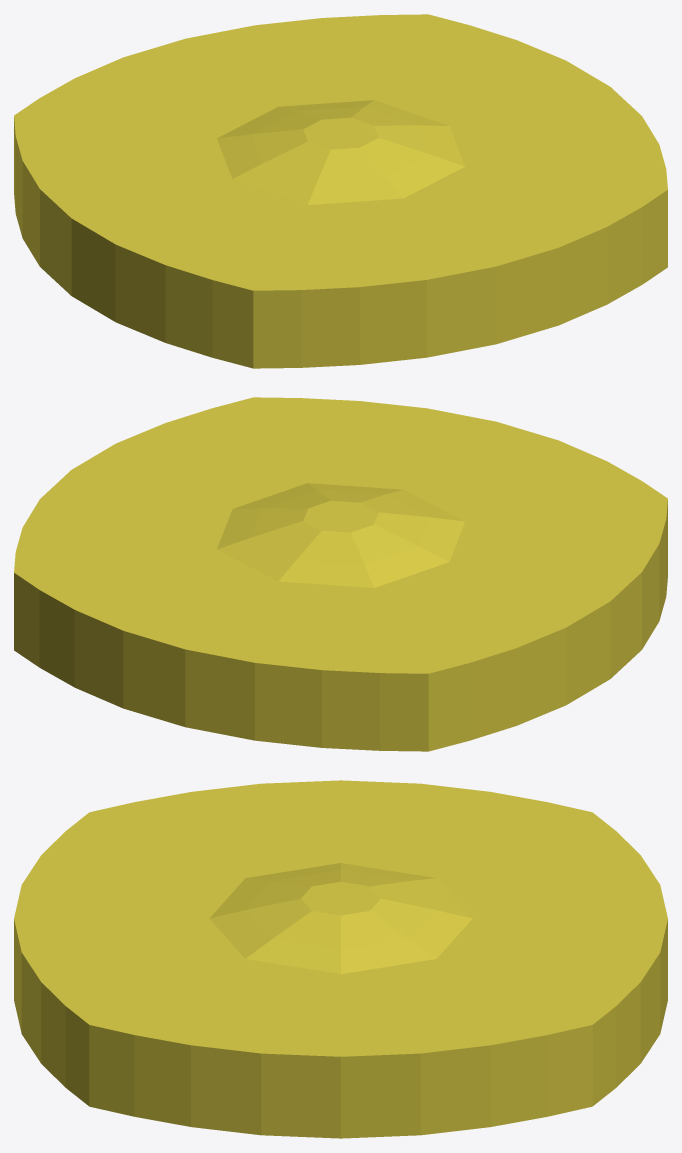
The model's file is 1Gold.fbx.
3 renders of one model, top to bottom at view 1: azimuth 30°, elevation 25°; view 2: azimuth 150°, elevation 25°; view 3: azimuth 270°, elevation 25°, orthographic. The views are drawn at different scales.
Parts seen in each view (by area): view 1: Gold; view 2: Gold; view 3: Gold.
Part boxes in pixels (box(x1,y1,x2,y2)): Gold: box(14, 14, 667, 368); Gold: box(14, 397, 667, 751); Gold: box(14, 780, 667, 1138).
Size of the model in its own units: 8.92 by 1.53 by 8.92.
